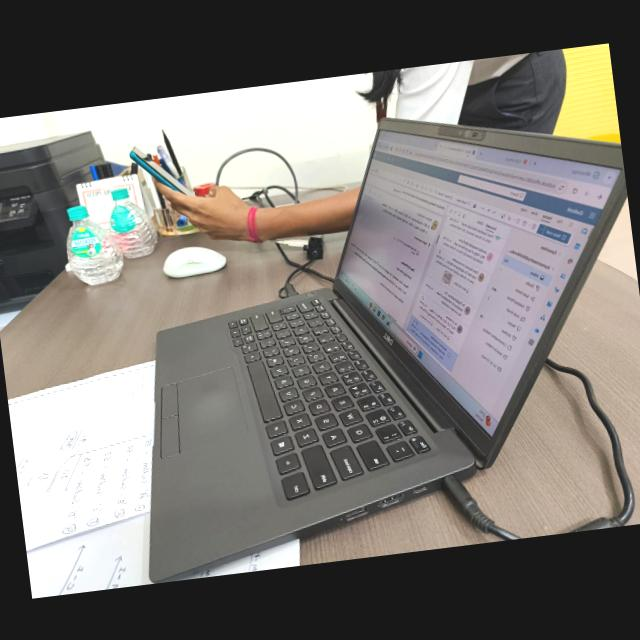laptop: (95, 126, 640, 579)
